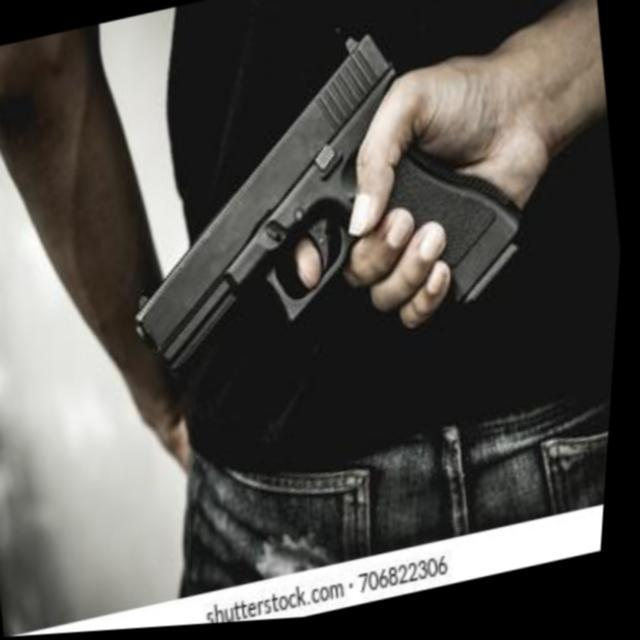weapon: (91, 0, 562, 413)
